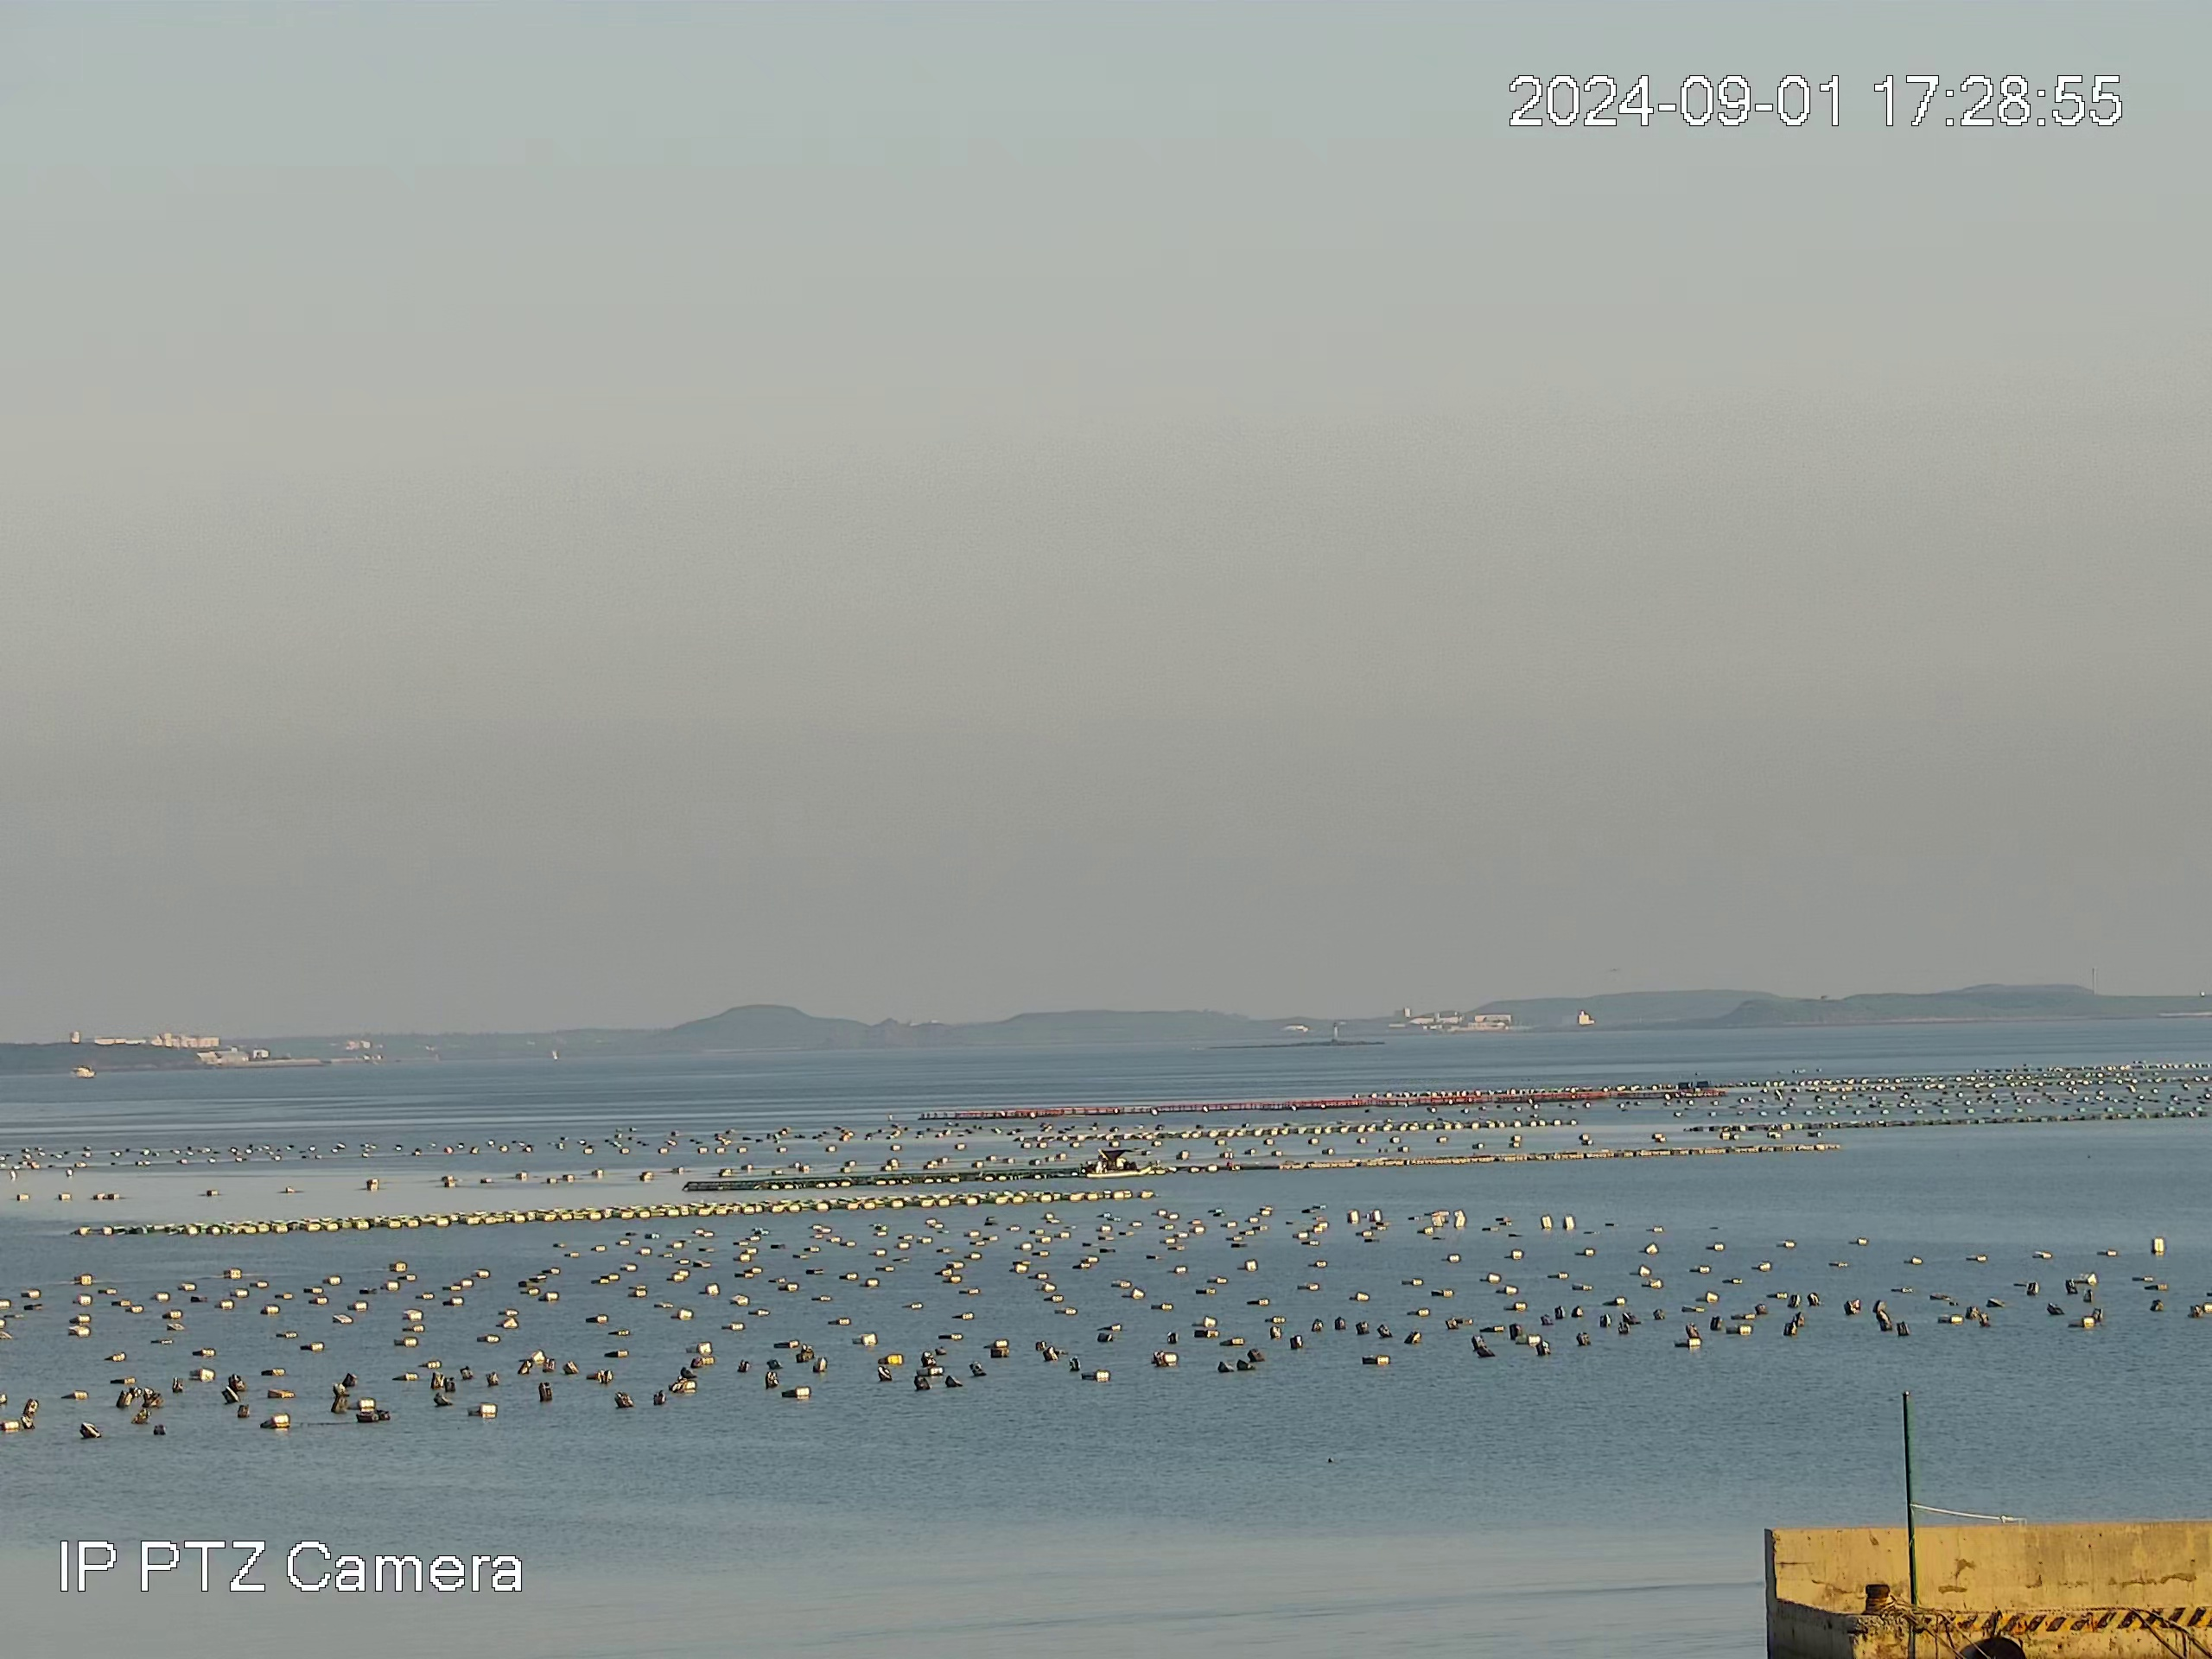boat: (1089, 1143, 1153, 1180)
